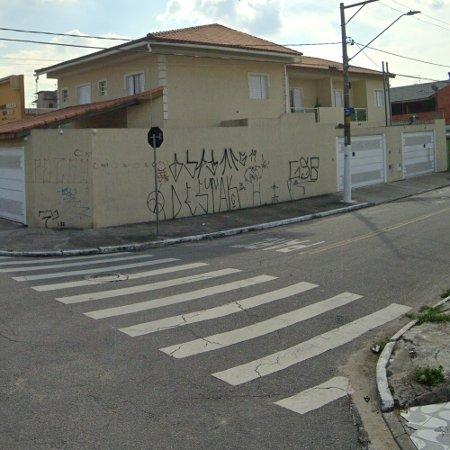crosswalks: (0, 251, 407, 418)
